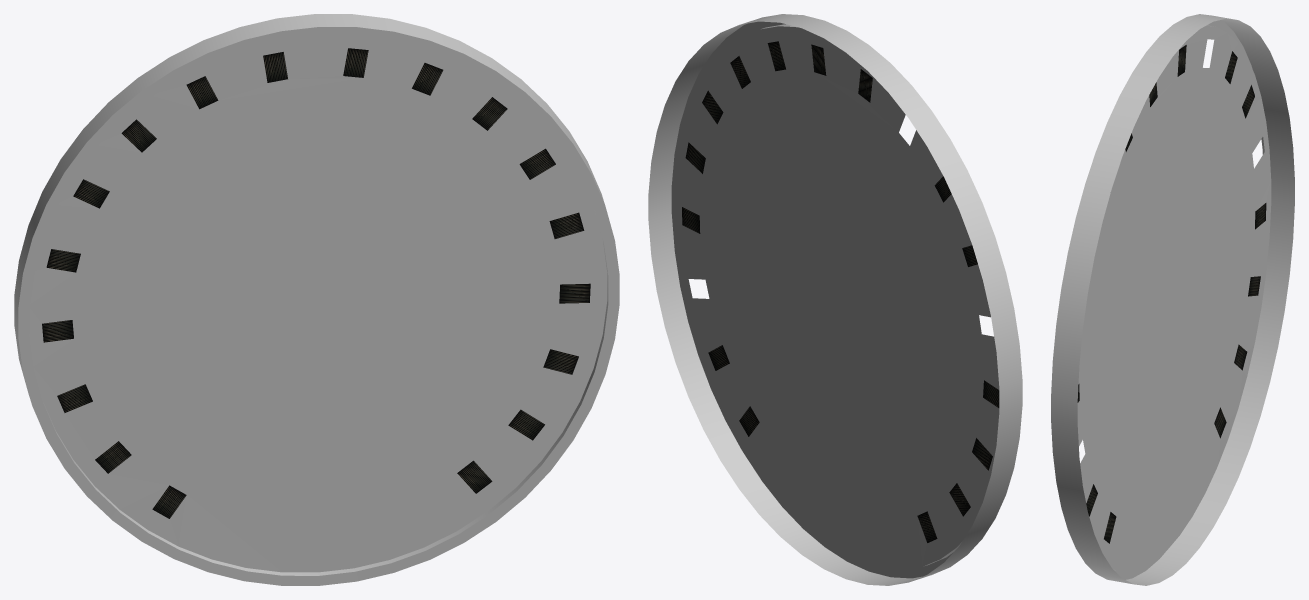
File: SafeCape.fbx
3 renders of one model, left to right at view 1: azimuth 30°, elevation 25°; view 2: azimuth 150°, elevation 25°; view 3: azimuth 270°, elevation 25°, orthographic. The views are drawn at different scales.
Visible parts, largest first — view 1: Circle.009; view 2: Circle.009; view 3: Circle.009.
Part boxes in pixels (box(x1,y1,x2,y2)): Circle.009: box(14, 14, 619, 585); Circle.009: box(648, 14, 1022, 585); Circle.009: box(1051, 14, 1294, 585).
Size of the model in its own units: 19.41 by 20.91 by 8.84.
